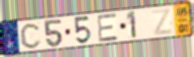1: (126, 9, 138, 41)
5: (43, 19, 64, 48), (74, 15, 93, 46)
C: (19, 21, 43, 50)
E: (97, 12, 120, 44)
Z: (150, 7, 175, 38)
